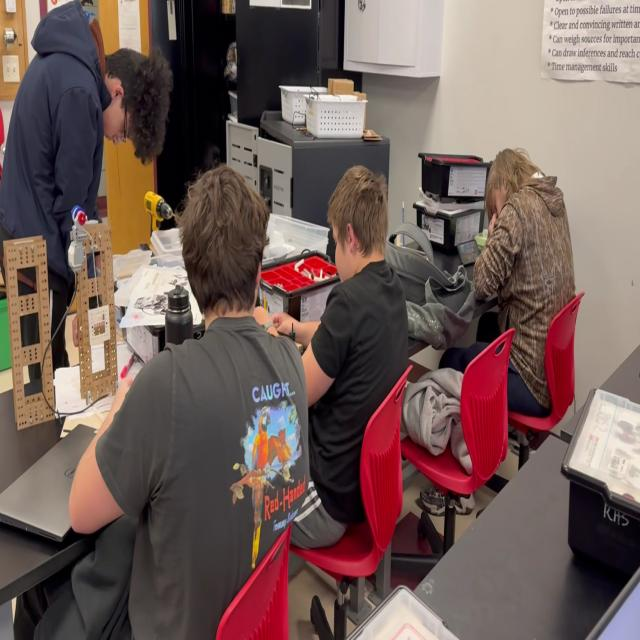pen: (456, 239, 481, 267)
